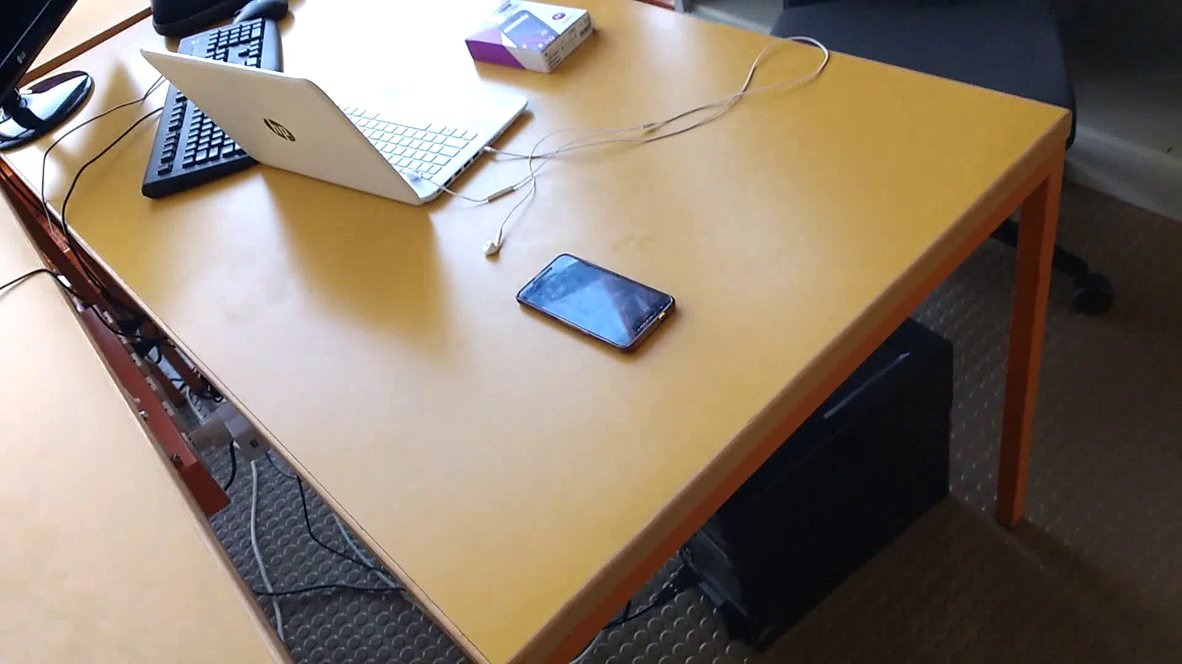laptop: (133, 38, 539, 212)
phone: (510, 244, 688, 362)
